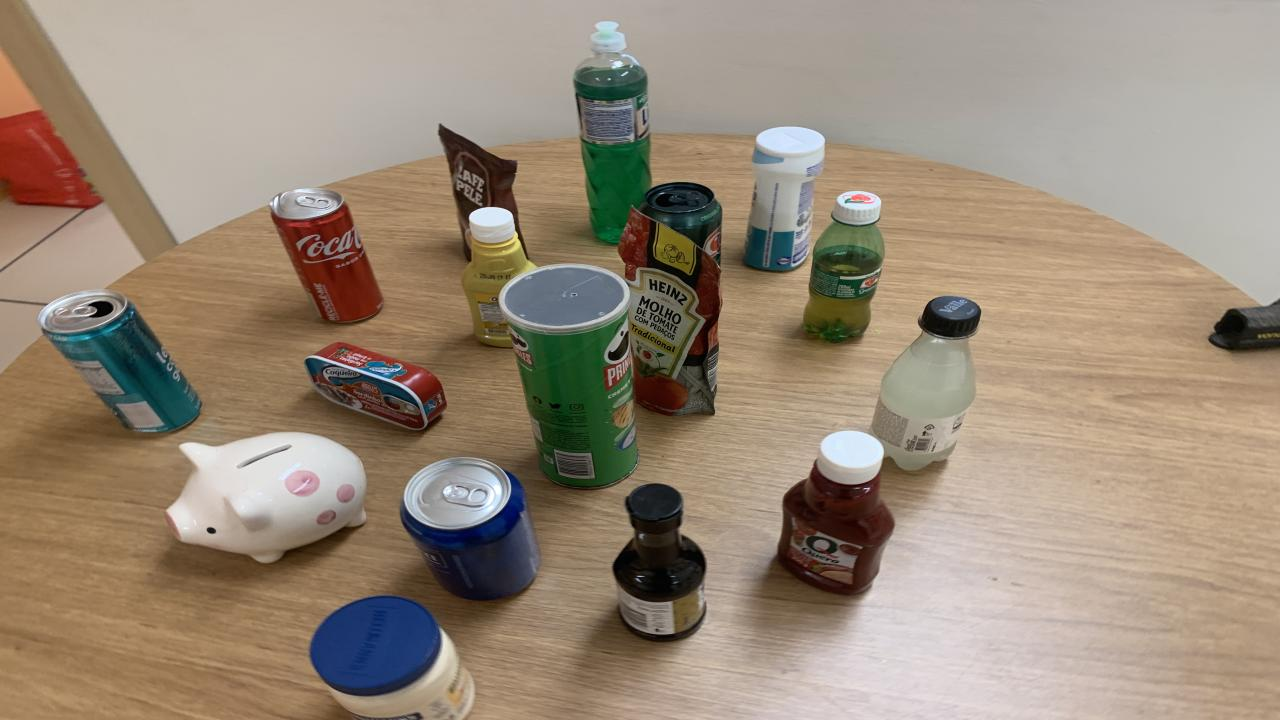Cleaner-Cleanup_Items: (745, 128, 825, 272)
Coffee-Pantry_Items: (438, 126, 520, 261)
Coke-Drinks: (270, 188, 382, 322)
Detergent-Cleanup_Items: (572, 21, 652, 244)
English_Sauce-Pantry_Items: (612, 484, 705, 641)
Guarana-Drinks: (805, 191, 885, 341)
Guarana_Can-Drinks: (638, 182, 722, 261)
Ketchup-Pantry_Items: (778, 431, 895, 594)
Mayonnaise-Pantry_Items: (310, 596, 475, 718)
Mustard-Pantry_Items: (462, 206, 535, 347)
Pig_Safe-Miscellaneous: (165, 433, 365, 562)
Pringles-Snacks: (500, 264, 638, 488)
Soda-Drinks: (870, 296, 980, 471)
Tea-Drinks: (40, 289, 202, 433)
Tomato_Sauce-Pantry_Items: (618, 208, 722, 414)
Tonic-Drinks: (400, 458, 540, 600)
Tuna_Can-Pantry_Items: (305, 343, 448, 429)
